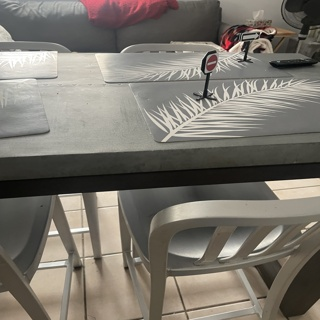sign_noentry: (204, 53, 215, 70)
sign_oneway_right: (236, 33, 260, 39)
